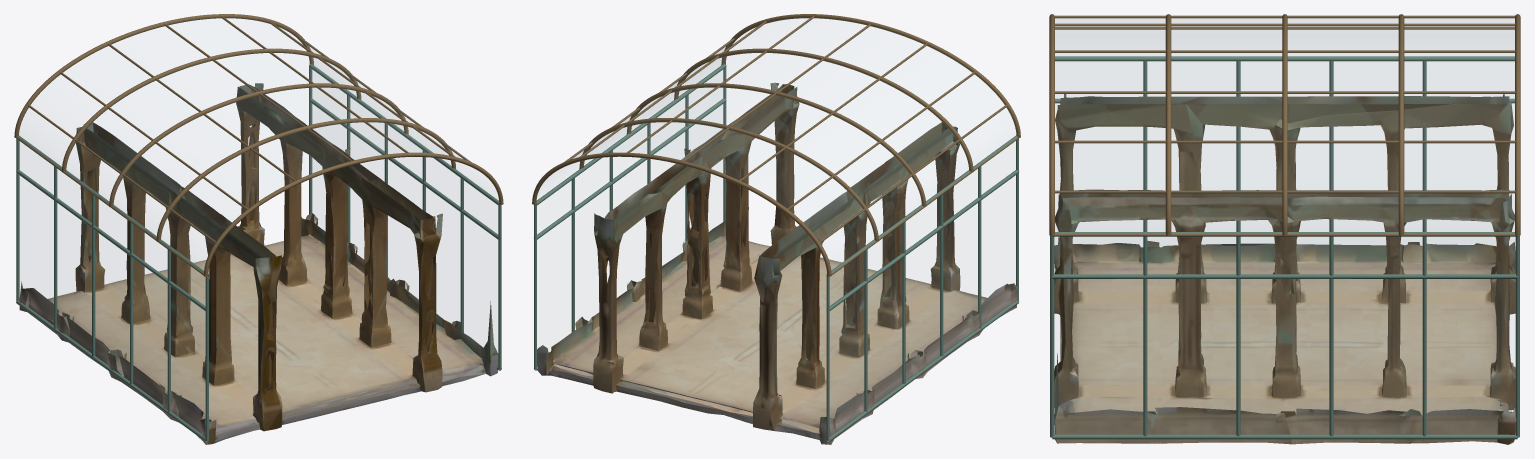
Rendered from arcade-repaired.glb.
The picture shows the model from 3 angles, left to right: view 1: azimuth 30°, elevation 25°; view 2: azimuth 150°, elevation 25°; view 3: azimuth 270°, elevation 25°; orthographic projection. The views are drawn at different scales.
Visible parts, largest first — view 1: Lux3D G1 preserved floor and interior columns, Measured continuous roof arch, Side window post, Unbroken transparent panes; view 2: Lux3D G1 preserved floor and interior columns, Measured continuous roof arch, Side window post, Unbroken transparent panes; view 3: Lux3D G1 preserved floor and interior columns, Unbroken transparent panes, Measured continuous roof arch, Side window post.
Boxes of the visible parts, x1,y1,x2,y2 form: Lux3D G1 preserved floor and interior columns: (19,83,498,444); Measured continuous roof arch: (14,14,503,276); Side window post: (16,64,501,442); Unbroken transparent panes: (302,39,466,173); Lux3D G1 preserved floor and interior columns: (537,82,1017,444); Measured continuous roof arch: (532,14,1020,276); Side window post: (534,64,1019,441); Unbroken transparent panes: (569,38,734,173); Lux3D G1 preserved floor and interior columns: (1054,94,1516,444); Unbroken transparent panes: (1054,18,1515,247); Measured continuous roof arch: (1049,14,1520,236); Side window post: (1050,56,1519,439).
Bounding box in the file's own units: 36.48 × 29.24 × 40.48.
4 materials, 1 textured.
